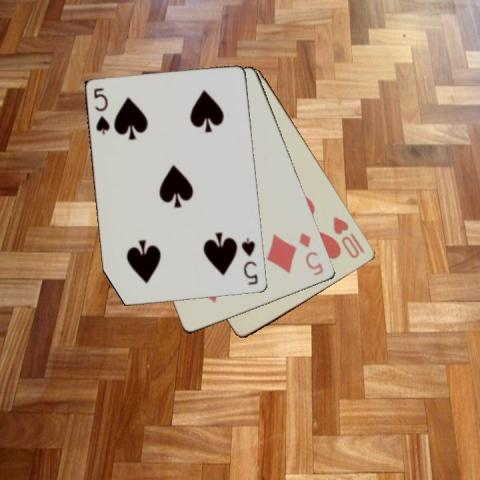10h: (330, 213, 367, 260)
5d: (296, 229, 325, 278)
5s: (239, 235, 259, 287), (91, 84, 111, 136)
